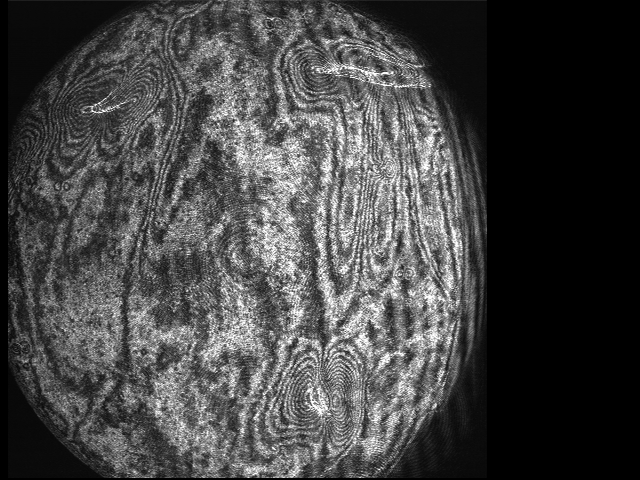plume: (278, 348, 368, 437)
